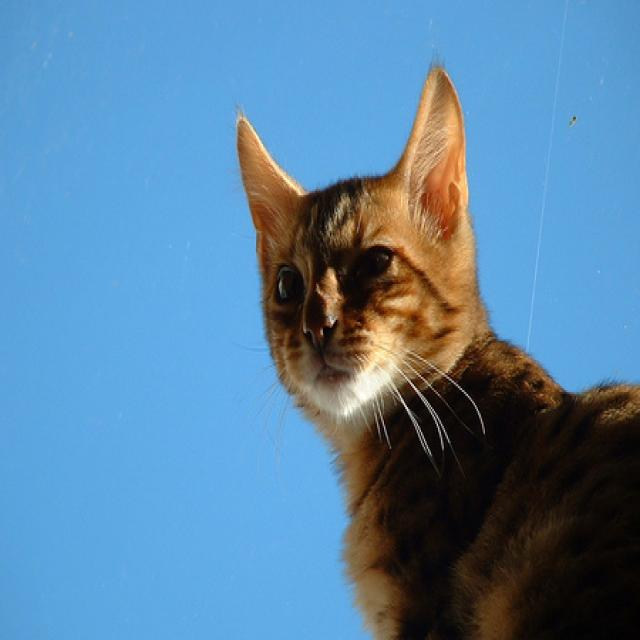Bengal: (222, 51, 640, 640)
